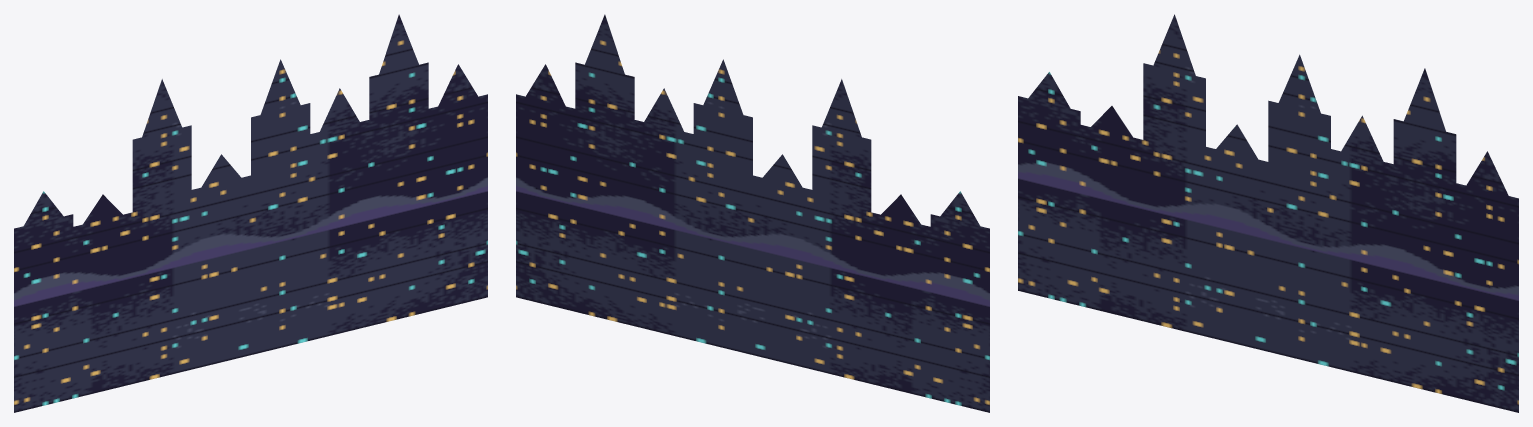
The model's file is cysky.needle.glb.
The picture shows the model from 3 angles, left to right: view 1: azimuth 30°, elevation 25°; view 2: azimuth 150°, elevation 25°; view 3: azimuth 330°, elevation 25°; orthographic projection. The views are drawn at different scales.
Parts seen in each view (by area): view 1: kit_card_skyline; view 2: kit_card_skyline; view 3: kit_card_skyline.
Boxes of the visible parts, <box> form: kit_card_skyline: <box>14,14,487,412</box>; kit_card_skyline: <box>516,14,989,412</box>; kit_card_skyline: <box>1018,14,1518,412</box>.
Size of the model in its own units: 56 by 34.45 by 0.
Materials: 1 (1 with a texture image).
